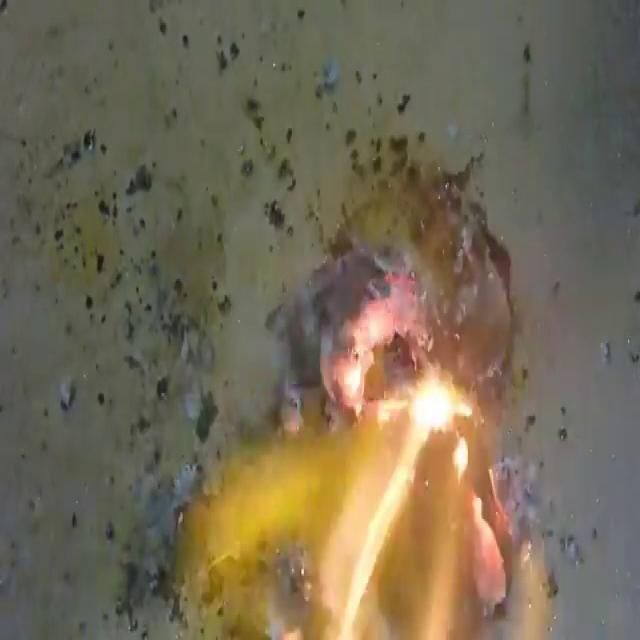Fire: (139, 144, 582, 640)
